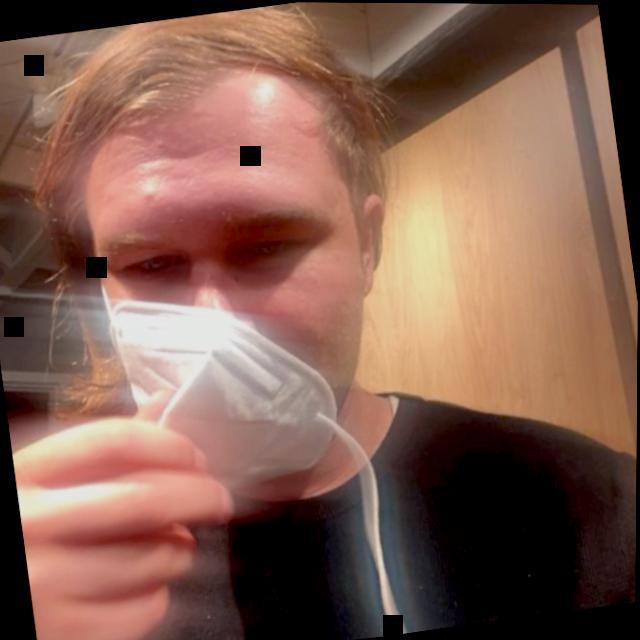Mask: (43, 1, 455, 516)
